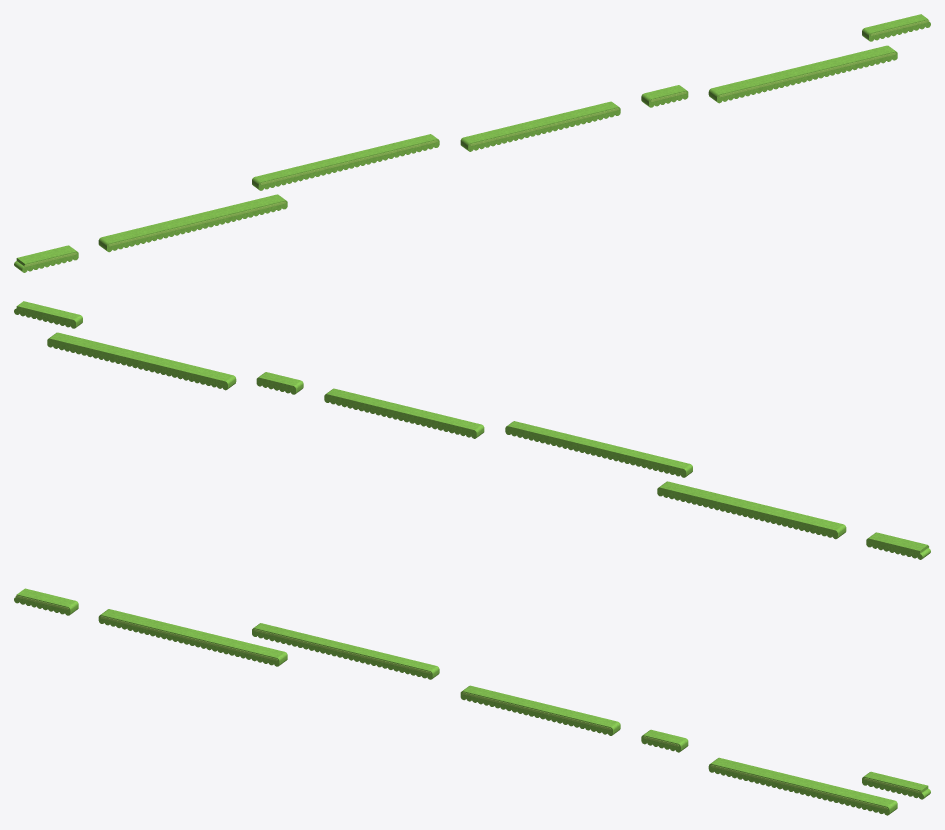
The model's file is gras_level1.glb.
3 views of the same model, one above another, from view 1: azimuth 30°, elevation 25°; view 2: azimuth 150°, elevation 25°; view 3: azimuth 330°, elevation 25° (orthographic).
Parts seen in each view (by area): view 1: gras_L1_02, gras_L1_06, gras_L1_03, gras_L1_04, gras_L1_01, gras_L1_07, gras_L1_05; view 2: gras_L1_02, gras_L1_06, gras_L1_03, gras_L1_04, gras_L1_01, gras_L1_07, gras_L1_05; view 3: gras_L1_02, gras_L1_06, gras_L1_03, gras_L1_04, gras_L1_07, gras_L1_01, gras_L1_05.
Part boxes in pixels (<box>): gras_L1_02: <box>98,194,287,252</box>; gras_L1_06: <box>708,45,897,103</box>; gras_L1_03: <box>252,134,439,190</box>; gras_L1_04: <box>460,101,620,151</box>; gras_L1_01: <box>14,245,78,272</box>; gras_L1_07: <box>862,14,930,41</box>; gras_L1_05: <box>641,85,688,107</box>; gras_L1_02: <box>657,481,846,539</box>; gras_L1_06: <box>47,332,236,390</box>; gras_L1_03: <box>505,421,692,477</box>; gras_L1_04: <box>324,388,484,438</box>; gras_L1_01: <box>866,532,930,559</box>; gras_L1_07: <box>14,301,82,328</box>; gras_L1_05: <box>256,372,303,394</box>; gras_L1_02: <box>98,609,287,666</box>; gras_L1_06: <box>708,757,897,815</box>; gras_L1_03: <box>252,623,439,679</box>; gras_L1_04: <box>460,685,620,735</box>; gras_L1_07: <box>862,771,930,799</box>; gras_L1_01: <box>14,588,78,615</box>; gras_L1_05: <box>641,729,688,752</box>.
Bounding box in the file's own units: 96.6 × 3.32 × 1.56.
Materials: 2 (2 with a texture image).
